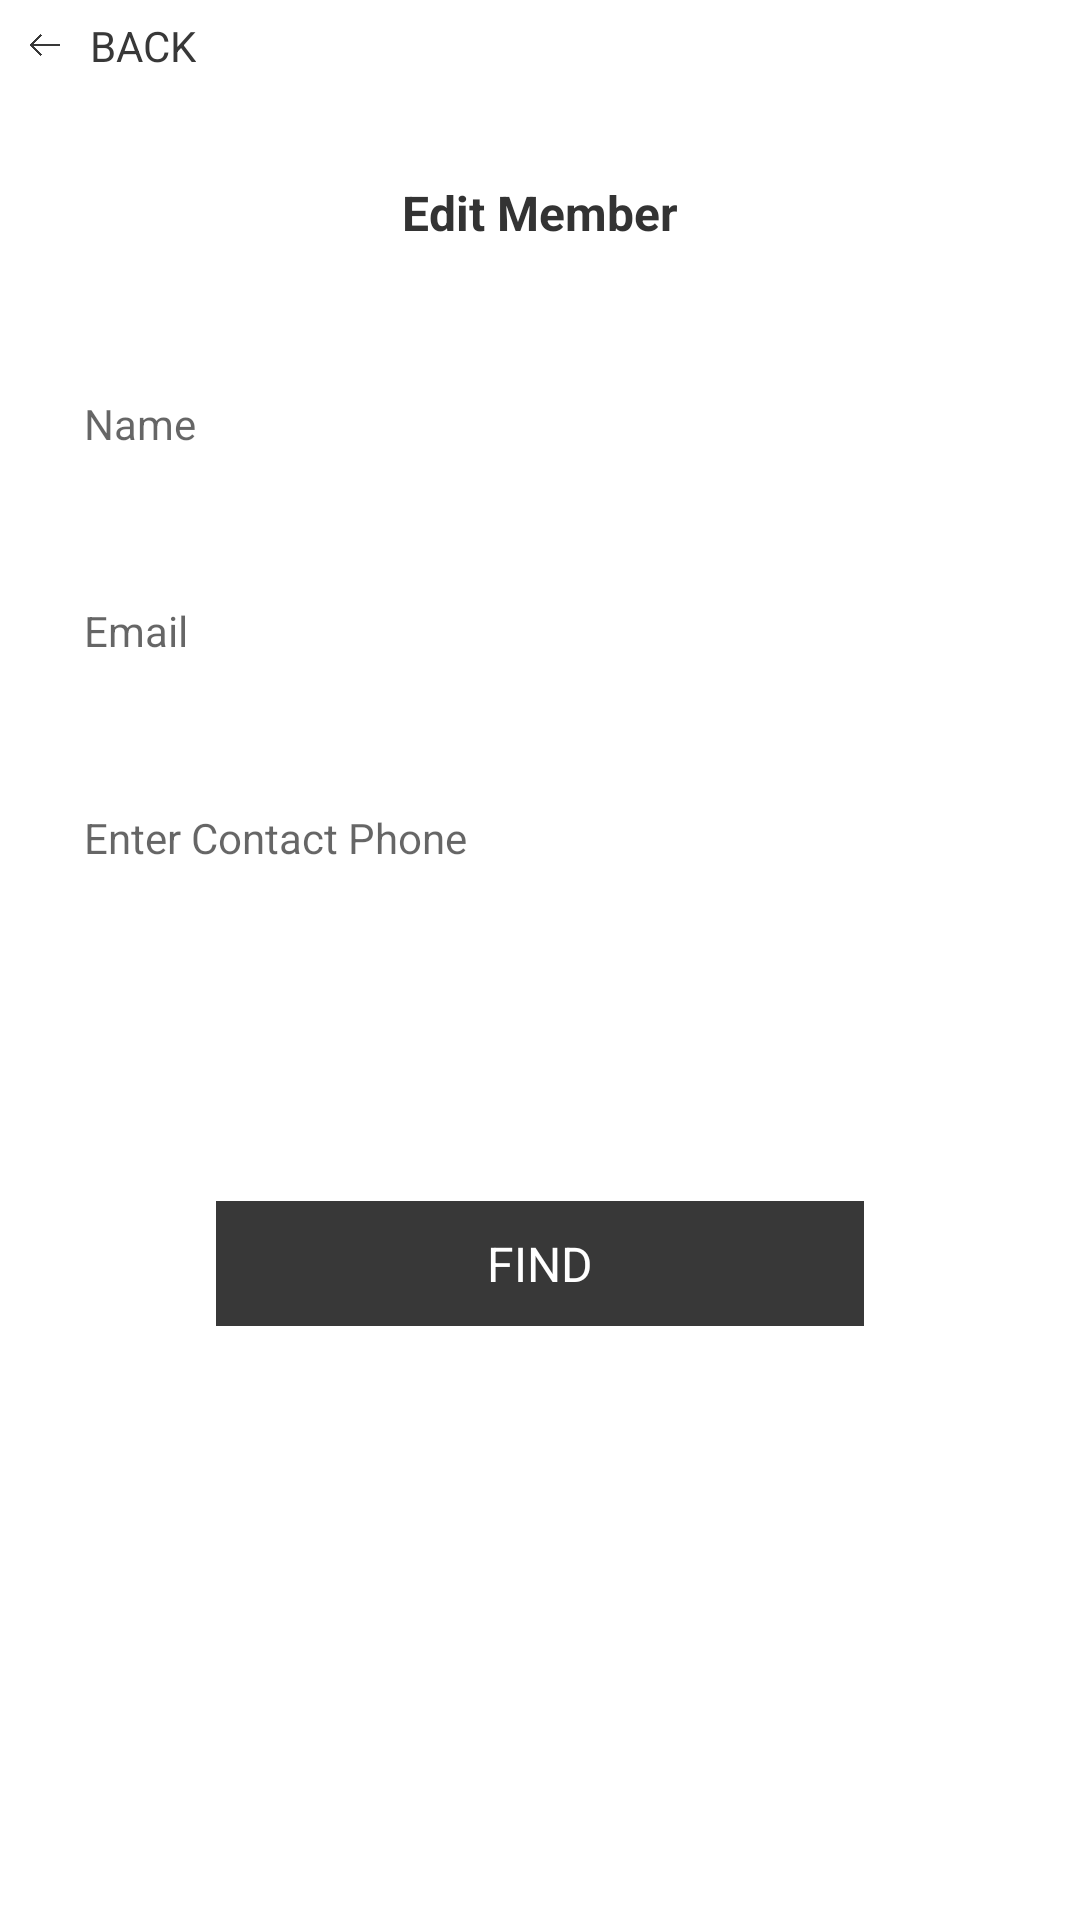

Icon bounding boxes for this 1080px x 1920px phone screenshot, format (x1, y1, x2, y2):
left arrow: (30, 34, 60, 56)
